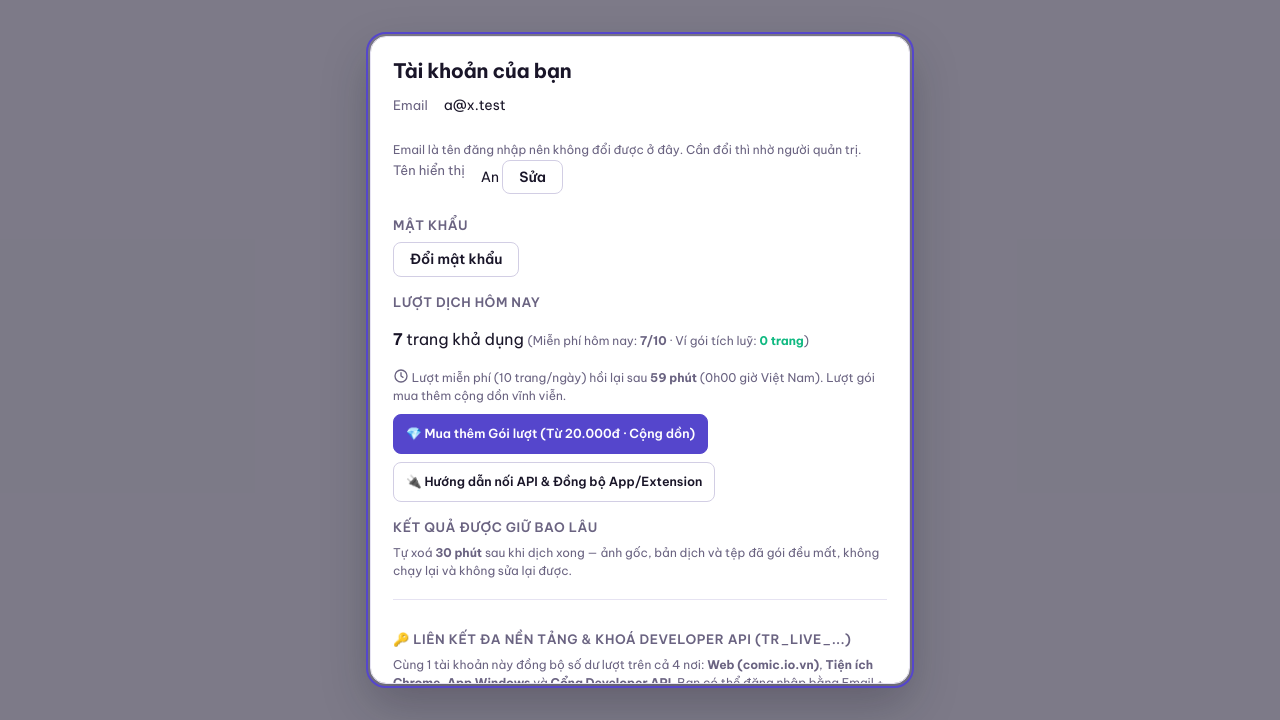
Test: E56 — sửa tài khoản › phần đổi mật khẩu đóng sẵn, mở ra mới hiện ĐỦ BA ô
Expected: the field labelled "Mật khẩu hiện tại" is not shown
Click the button "Đổi mật khẩu".
click(456, 260)  # box [393,242,519,277]
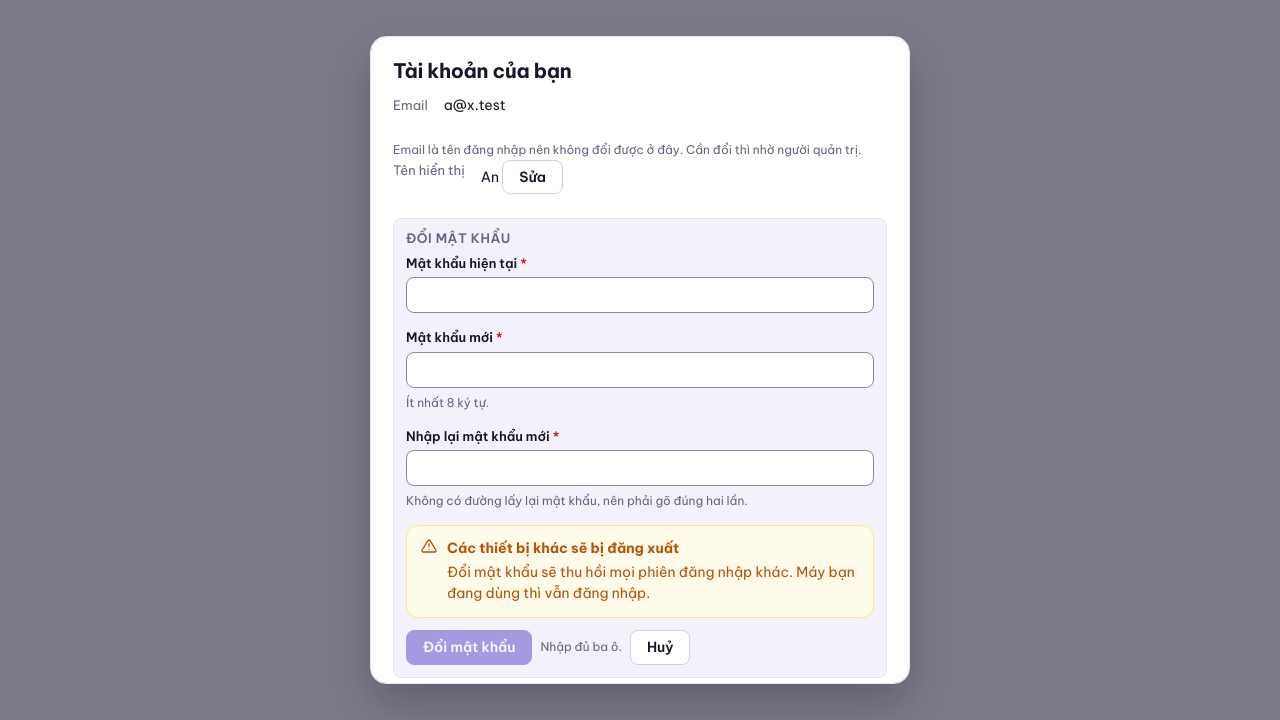
Expected: the password field labelled "Mật khẩu hiện tại *" is shown, [406,278,874,314]
Expected: the password field labelled "Mật khẩu mới *" is shown, [406,352,874,388]
Expected: the password field labelled "Nhập lại mật khẩu mới *" is shown, [406,450,874,486]
